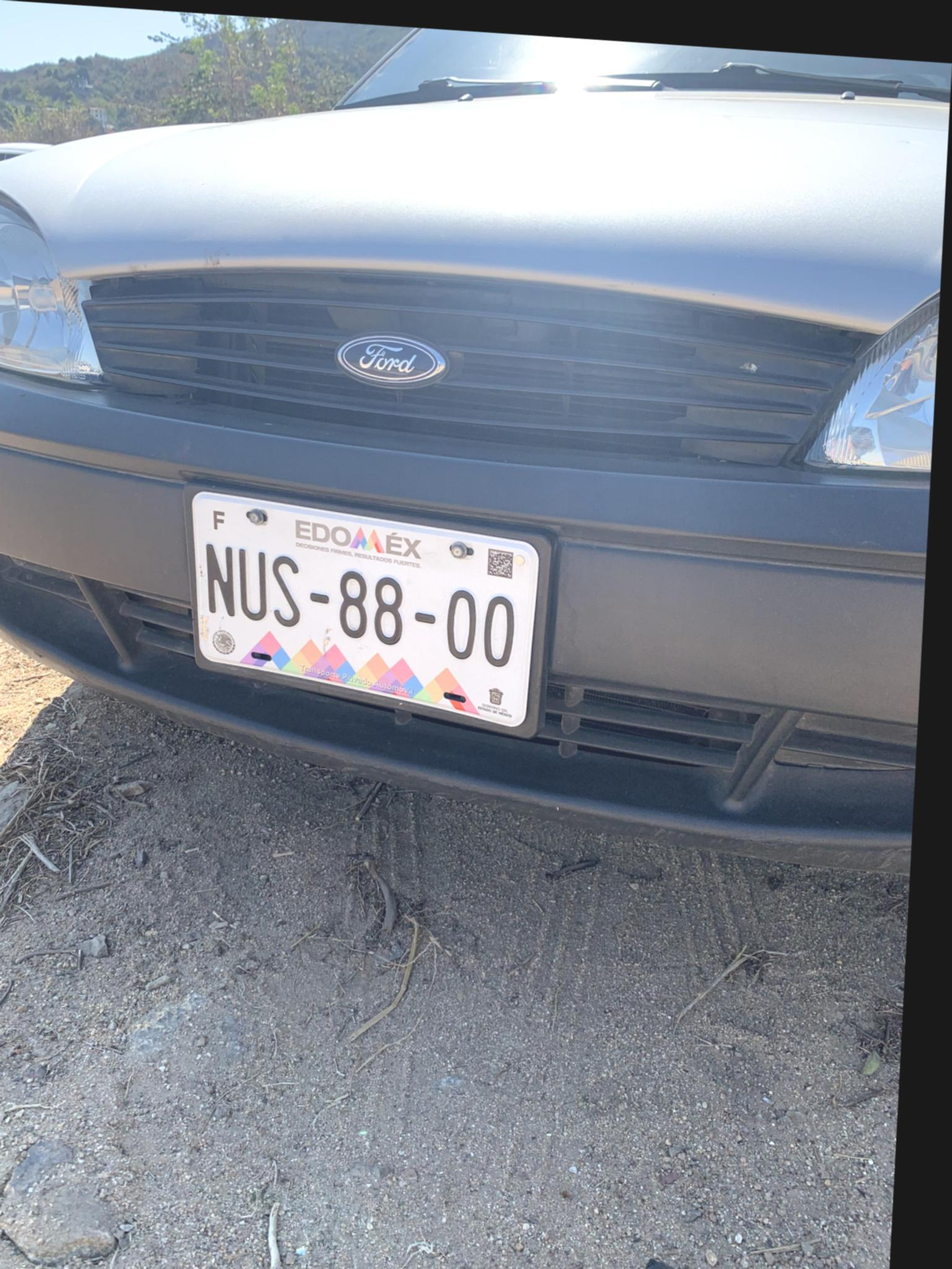License_Plate: (153, 475, 593, 768)
